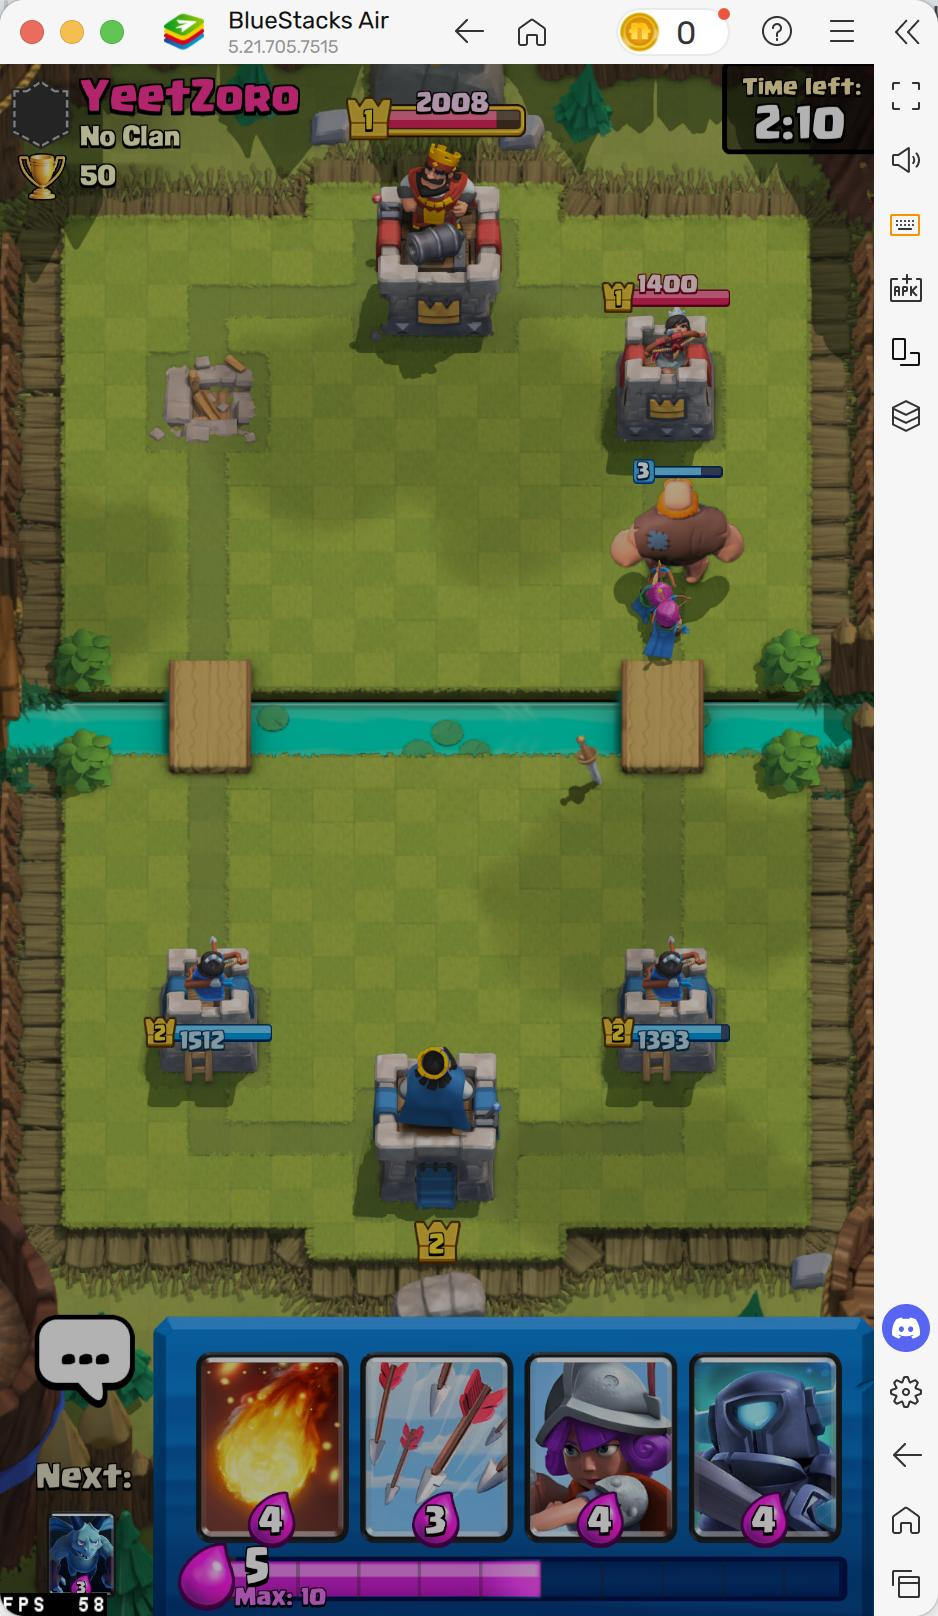0: (811, 103, 846, 142), (450, 89, 472, 115), (430, 90, 452, 114), (662, 272, 682, 295), (679, 272, 699, 295)
1: (793, 102, 814, 143), (635, 272, 649, 295), (636, 1029, 648, 1051), (179, 1028, 189, 1051), (202, 1029, 212, 1051)
2: (752, 102, 784, 143), (413, 89, 433, 115), (210, 1029, 226, 1051)
3: (422, 1502, 449, 1538), (645, 1029, 662, 1051), (674, 1029, 690, 1052), (75, 1578, 87, 1597)
4: (256, 1501, 287, 1539), (583, 1502, 615, 1538), (748, 1502, 779, 1538), (644, 271, 664, 295)
5: (243, 1543, 271, 1589), (188, 1029, 202, 1052)
9: (659, 1029, 677, 1052)
Enemy Tower: (612, 312, 718, 443), (468, 88, 491, 115)
Friendly Tower: (142, 944, 266, 1077), (615, 944, 718, 1076)
